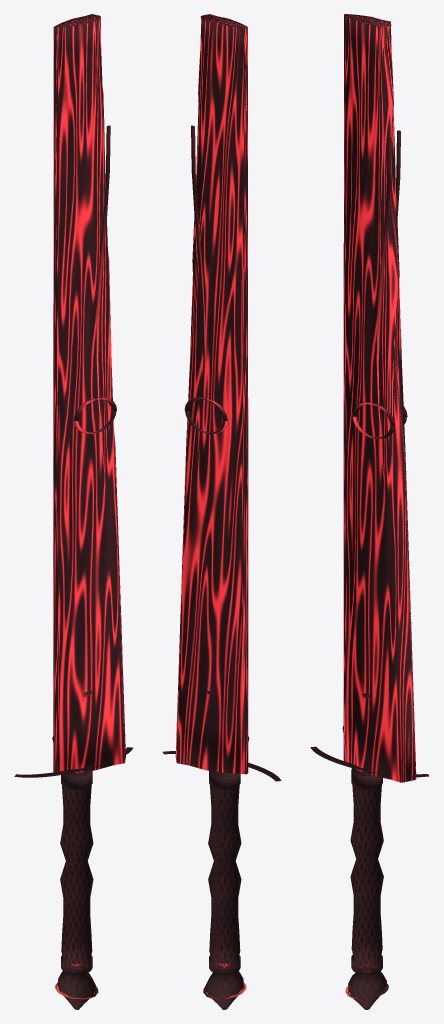
The model's file is sword_08_bloodmoon_pact.glb.
The picture shows the model from 3 angles, left to right: view 1: azimuth 30°, elevation 25°; view 2: azimuth 150°, elevation 25°; view 3: azimuth 330°, elevation 25°; orthographic projection.
Visible parts, largest first — view 1: Blade_BloodmoonPactGreatsword, Grip_PactBloodWrap, Inlay_PactVeins, Pommel_BloodDrop, Ferrule_PactBloodIron, Emblem_BloodMoonDisc, Guard_InvertedCrescent; view 2: Blade_BloodmoonPactGreatsword, Grip_PactBloodWrap, Inlay_PactVeins, Pommel_BloodDrop, Ferrule_PactBloodIron, Emblem_BloodMoonDisc; view 3: Blade_BloodmoonPactGreatsword, Grip_PactBloodWrap, Inlay_PactVeins, Pommel_BloodDrop, Ferrule_PactBloodIron, Emblem_BloodMoonDisc, Guard_InvertedCrescent.
Boxes of the visible parts, box(x1,y1,x2,y2) form: Blade_BloodmoonPactGreatsword: box(53, 14, 125, 773); Grip_PactBloodWrap: box(60, 771, 93, 972); Inlay_PactVeins: box(96, 125, 110, 491); Pommel_BloodDrop: box(55, 971, 98, 1009); Ferrule_PactBloodIron: box(61, 770, 92, 974); Emblem_BloodMoonDisc: box(74, 397, 116, 433); Guard_InvertedCrescent: box(14, 736, 133, 777); Blade_BloodmoonPactGreatsword: box(175, 14, 248, 774); Grip_PactBloodWrap: box(208, 771, 241, 972); Inlay_PactVeins: box(191, 125, 204, 490); Pommel_BloodDrop: box(203, 971, 246, 1009); Ferrule_PactBloodIron: box(209, 770, 240, 974); Emblem_BloodMoonDisc: box(184, 397, 227, 433); Blade_BloodmoonPactGreatsword: box(343, 14, 416, 782); Grip_PactBloodWrap: box(350, 768, 383, 972); Inlay_PactVeins: box(376, 130, 400, 502); Pommel_BloodDrop: box(345, 971, 388, 1009); Ferrule_PactBloodIron: box(351, 768, 382, 974); Emblem_BloodMoonDisc: box(352, 402, 407, 438); Guard_InvertedCrescent: box(310, 726, 429, 777).
Bounding box in the file's own units: 0.3294 × 2.6 × 0.1268.
Materials: 1 (1 with a texture image).
